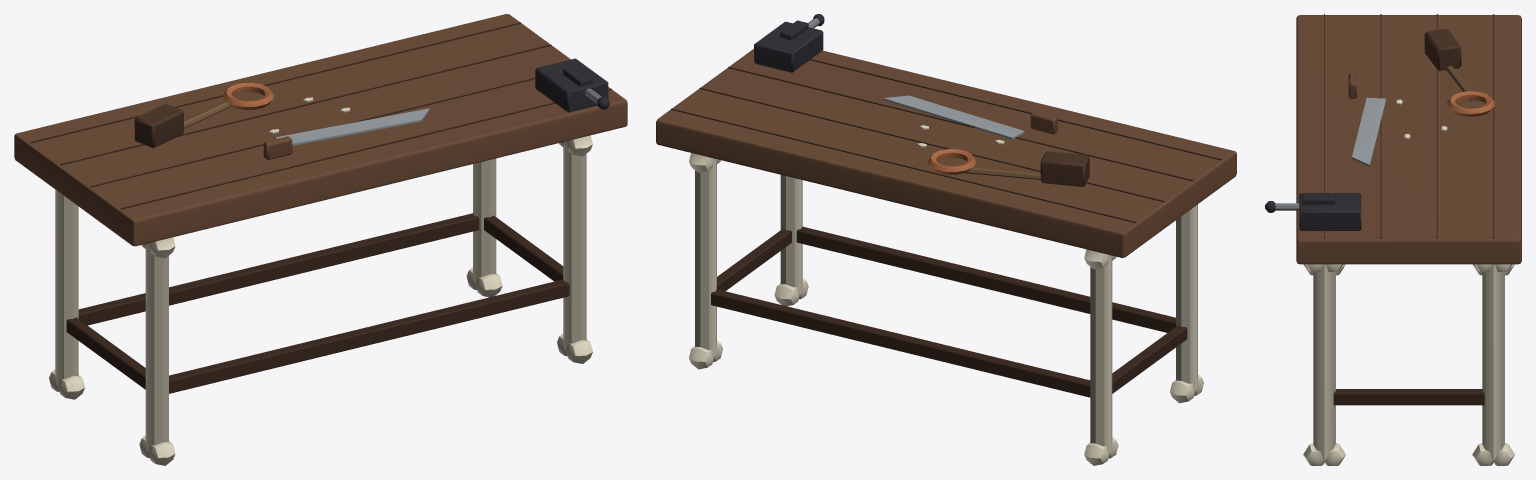
The model's file is workbench_bone.glb.
The picture shows the model from 3 angles, left to right: view 1: azimuth 30°, elevation 25°; view 2: azimuth 150°, elevation 25°; view 3: azimuth 270°, elevation 25°; orthographic projection. The views are drawn at different scales.
Parts seen in each view (by area): view 1: workbench_bone; view 2: workbench_bone; view 3: workbench_bone.
Boxes of the visible parts, x1,y1,x2,y2 form: workbench_bone: (14, 14, 627, 465); workbench_bone: (656, 14, 1236, 465); workbench_bone: (1265, 14, 1521, 465).
Size of the model in its own units: 1.9 by 1.05 by 0.9109.
